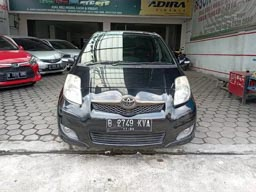plat: (105, 117, 151, 128)
